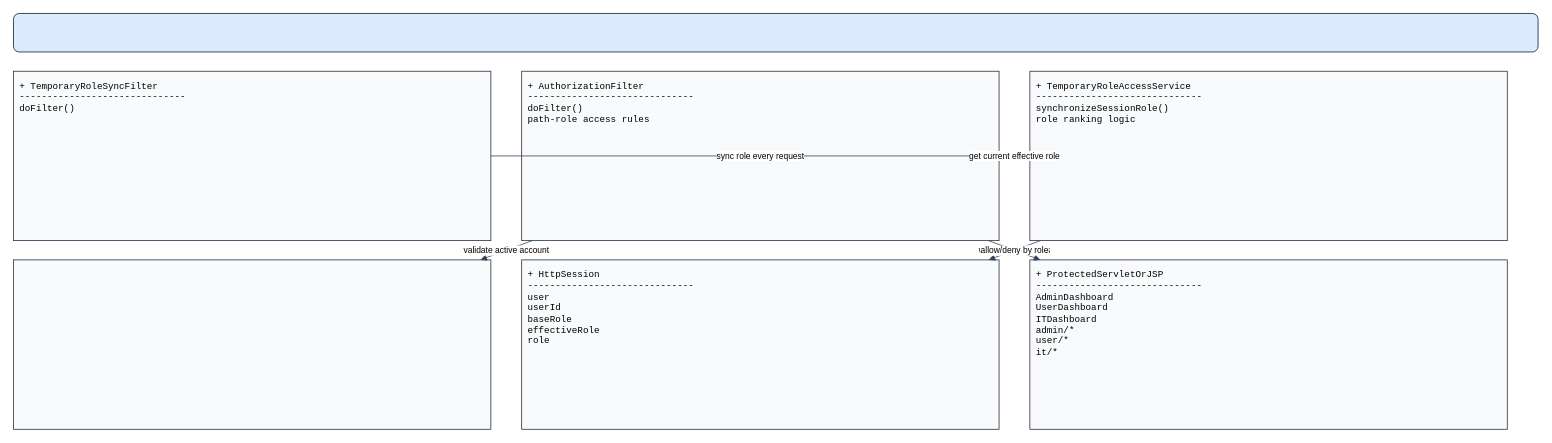
This 1552x443 diagram has some shape labels left out. Each missing label, with the centre of its shape:
"+ UserDao ------------------------------ getUserById()" belongs at [252,344].
"Class Diagram - Role and Permission" belongs at [775,32].
